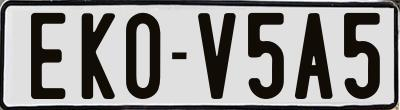0: (125, 12, 160, 103)
5: (245, 12, 287, 104), (341, 13, 377, 102)
A: (293, 10, 331, 98)
E: (30, 13, 67, 101)
K: (79, 12, 112, 101)
V: (195, 10, 237, 100)
